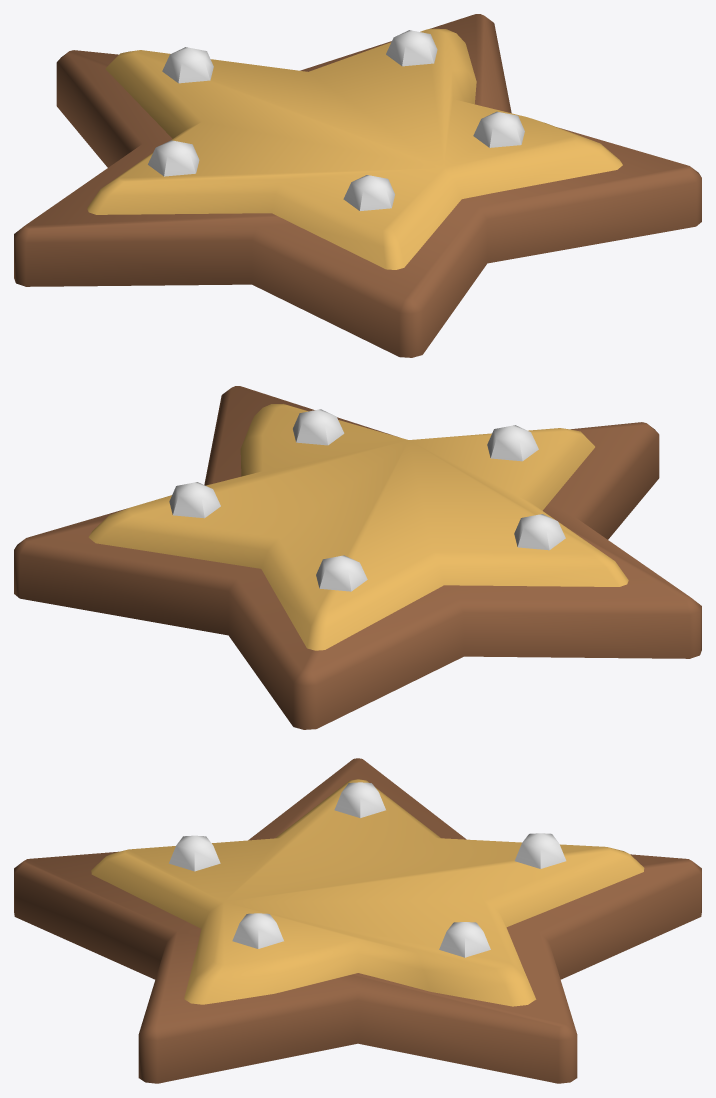
File: CookieStar_01.fbx
3 views of the same model, one above another, from view 1: azimuth 30°, elevation 25°; view 2: azimuth 150°, elevation 25°; view 3: azimuth 270°, elevation 25° (orthographic).
Parts seen in each view (by area): view 1: CookieStar_01; view 2: CookieStar_01; view 3: CookieStar_01.
Part boxes in pixels (x1,y1,x2,y2): CookieStar_01: (14, 14, 701, 357); CookieStar_01: (14, 386, 701, 729); CookieStar_01: (14, 758, 701, 1083).
Bounding box in the file's own units: 0.159 × 0.0268 × 0.1664.
